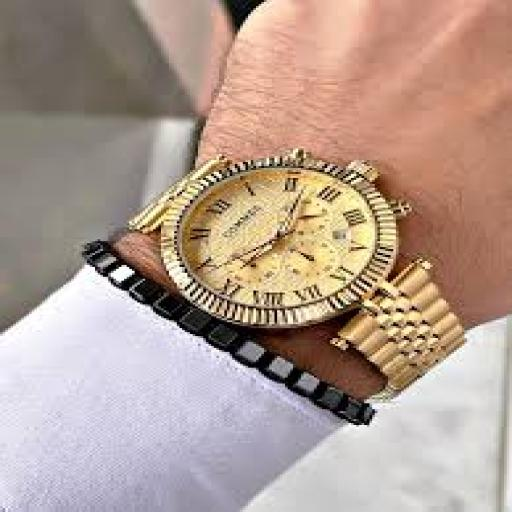KolSaati: (112, 150, 494, 424)
